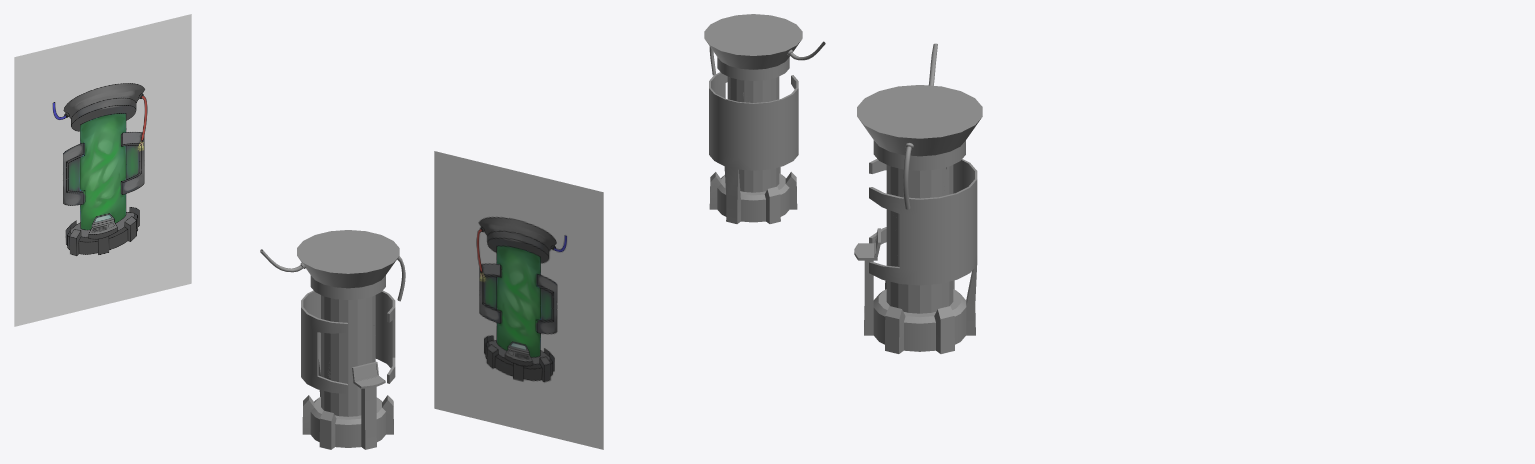
The model's file is breakable.fbx.
The picture shows the model from 3 angles, left to right: view 1: azimuth 30°, elevation 25°; view 2: azimuth 150°, elevation 25°; view 3: azimuth 270°, elevation 25°; orthographic projection. The views are drawn at different scales.
Parts seen in each view (by area): view 1: Plane001, Cylinder001, Object001_Part_4, Object001_Part_5, Object001_Part_10, Object001_Part_1, Object001_Part_2; view 2: Plane001, Cylinder001, Object001_Part_7, Object001_Part_3; view 3: Cylinder001, Object001_Part_1, Object001_Part_14, Object001_Part_2, Object001_Part_11.
Boxes of the visible parts, x1=… form: Plane001: x1=14, y1=14, x2=191, y2=326; Cylinder001: x1=260, y1=230, x2=405, y2=449; Object001_Part_4: x1=323, y1=299, x2=375, y2=342; Object001_Part_5: x1=324, y1=341, x2=358, y2=378; Object001_Part_10: x1=327, y1=370, x2=361, y2=414; Object001_Part_1: x1=342, y1=295, x2=375, y2=323; Object001_Part_2: x1=358, y1=328, x2=375, y2=365; Plane001: x1=434, y1=151, x2=603, y2=449; Cylinder001: x1=704, y1=14, x2=825, y2=223; Object001_Part_7: x1=729, y1=76, x2=779, y2=96; Object001_Part_3: x1=749, y1=167, x2=779, y2=191; Cylinder001: x1=854, y1=43, x2=982, y2=353; Object001_Part_1: x1=886, y1=165, x2=946, y2=197; Object001_Part_14: x1=886, y1=281, x2=931, y2=313; Object001_Part_2: x1=886, y1=209, x2=899, y2=266; Object001_Part_11: x1=922, y1=284, x2=953, y2=313.
Size of the model in its own units: 33.8 by 49.14 by 89.87.
Materials: 2 (1 with a texture image).
